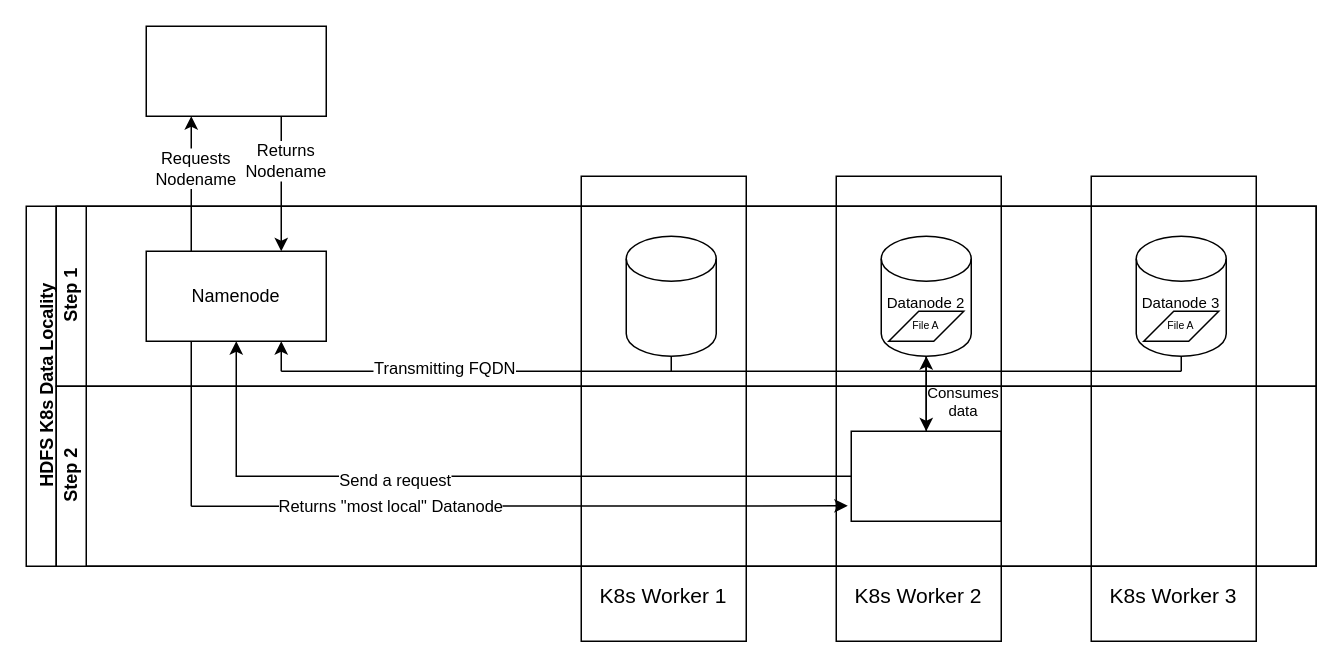
Some shapes in this 1343 by 668 pixel diagram are drawn without their labels. The centre of each missing label's shape, as x and y in pixels:
"Client" goes at (x=925, y=475).
"Datanode 1" goes at (x=670, y=295).
"Kube API-Server" goes at (x=235, y=70).
